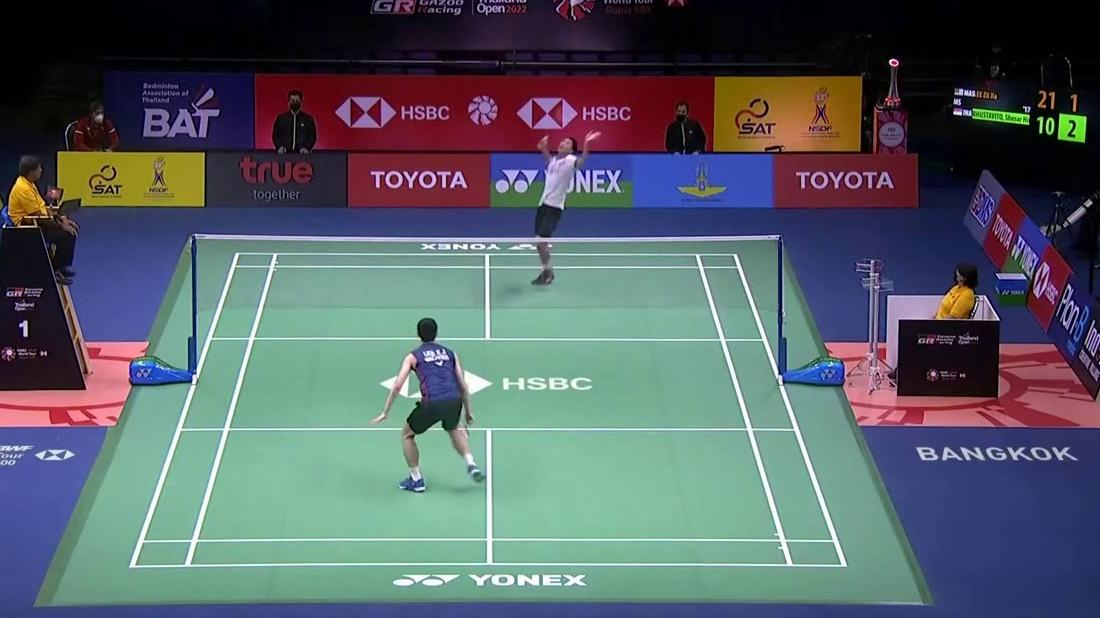racket: (457, 415, 472, 437)
shuttle: (570, 0, 576, 6)
